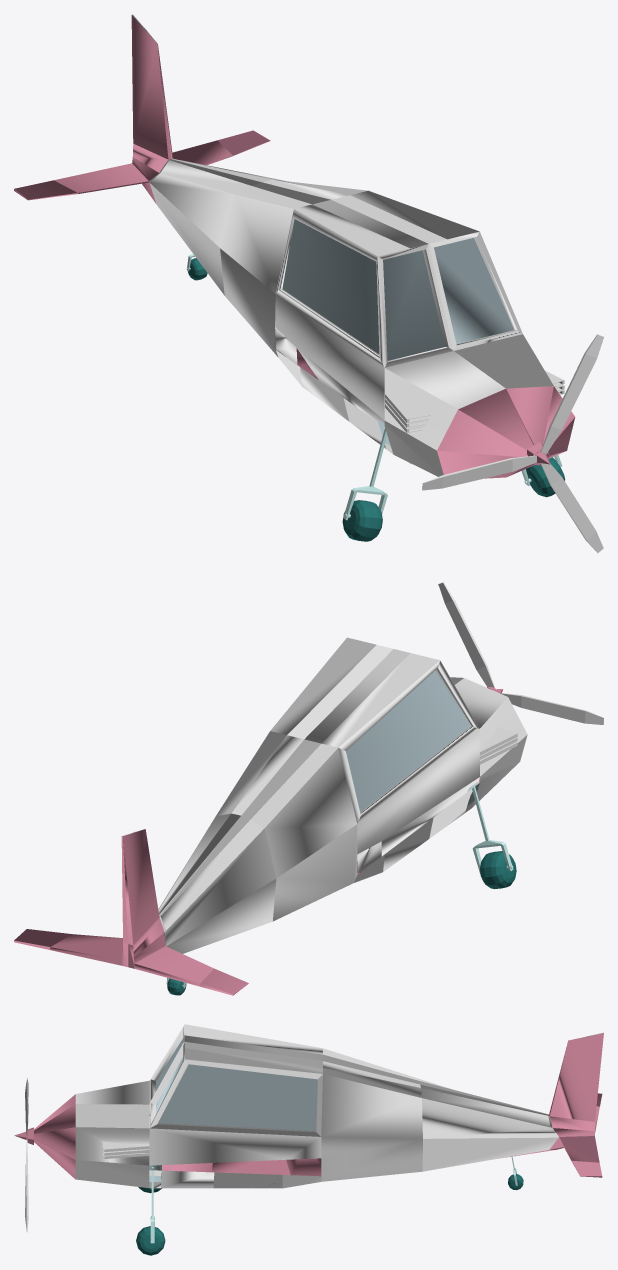
The model's file is WinglessFlight.fbx.
3 views of the same model, one above another, from view 1: azimuth 30°, elevation 25°; view 2: azimuth 150°, elevation 25°; view 3: azimuth 270°, elevation 25° (orthographic). The views are drawn at different scales.
Visible parts, largest first — view 1: Cube_3, Cube_1, Cube_0, Cube_2, Wheel_4, WheelCarcas_3, Wheel_2; view 2: Cube_3, Cube_1, Cube_0, Wheel_4, WheelCarcas_3; view 3: Cube_3, Wheel_2, Cube_2_3.
Part boxes in pixels (x1,y1,x2,y2): Cube_3: (14, 14, 575, 478); Cube_1: (540, 334, 603, 454); Cube_0: (422, 455, 536, 490); Cube_2: (540, 463, 603, 553); Wheel_4: (342, 500, 382, 541); WheelCarcas_3: (343, 428, 387, 520); Wheel_2: (526, 457, 565, 497); Cube_3: (14, 637, 527, 995); Cube_1: (438, 582, 495, 688); Cube_0: (501, 693, 603, 724); Wheel_4: (480, 851, 516, 889); WheelCarcas_3: (472, 786, 513, 873); Cube_3: (34, 1024, 603, 1188); Wheel_2: (136, 1226, 165, 1255); Cube_2_3: (102, 1141, 149, 1151).
Size of the model in its own units: 268 by 285 by 799.
